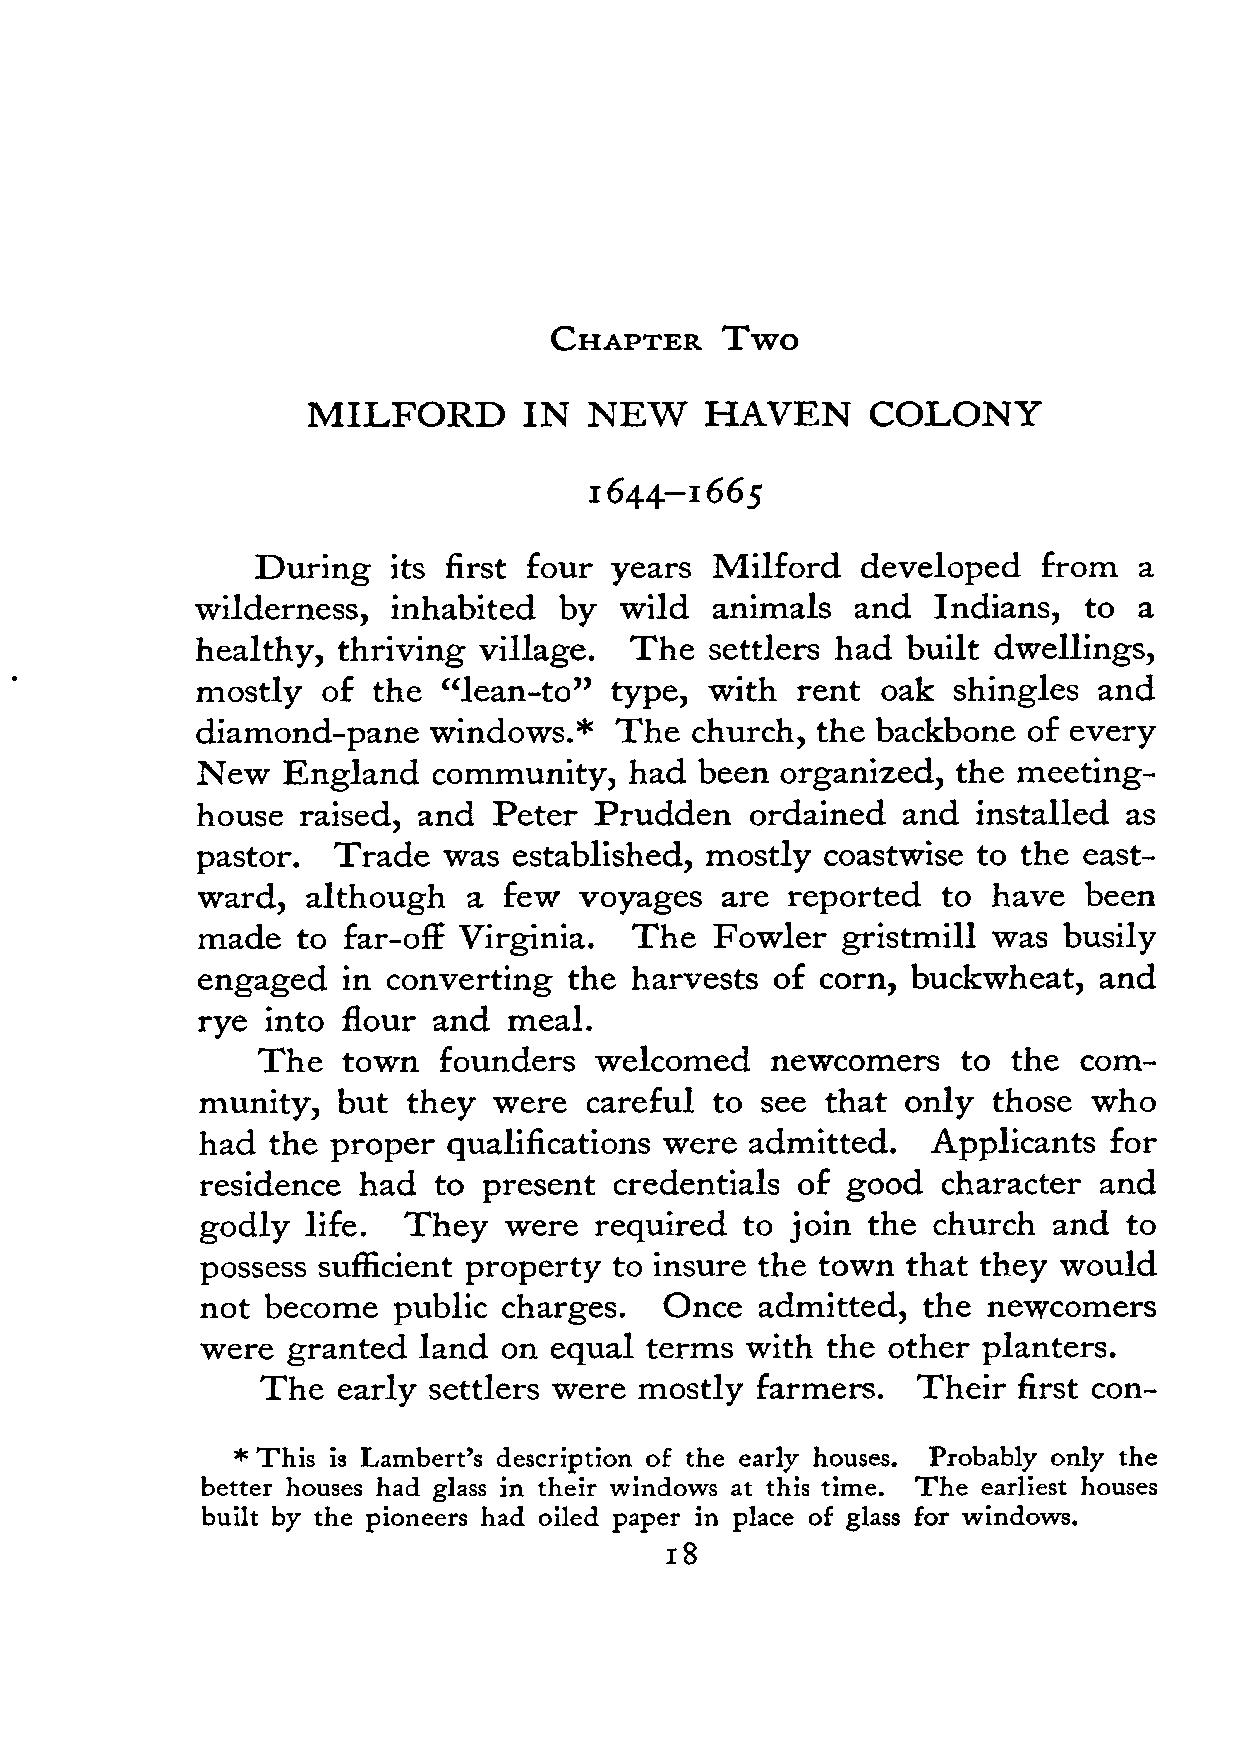chapter: (305, 323, 1041, 514)
content: (193, 546, 1158, 1534)
content_pagenumber: (664, 1541, 698, 1567)
